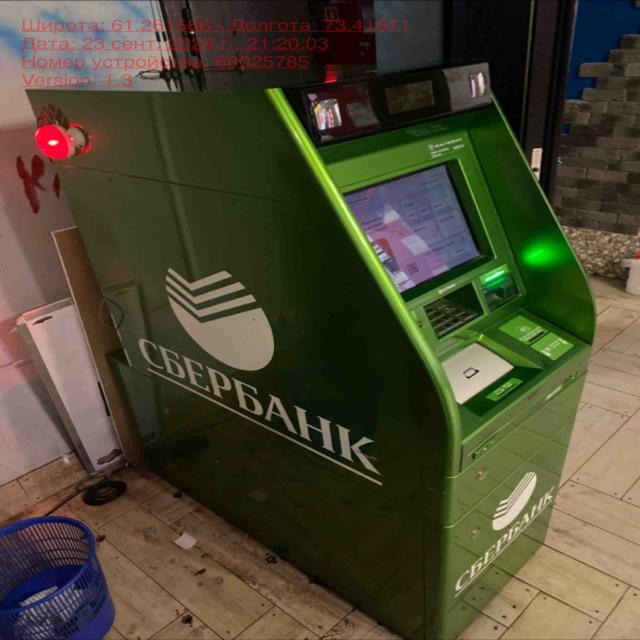bank: (26, 62, 594, 639)
